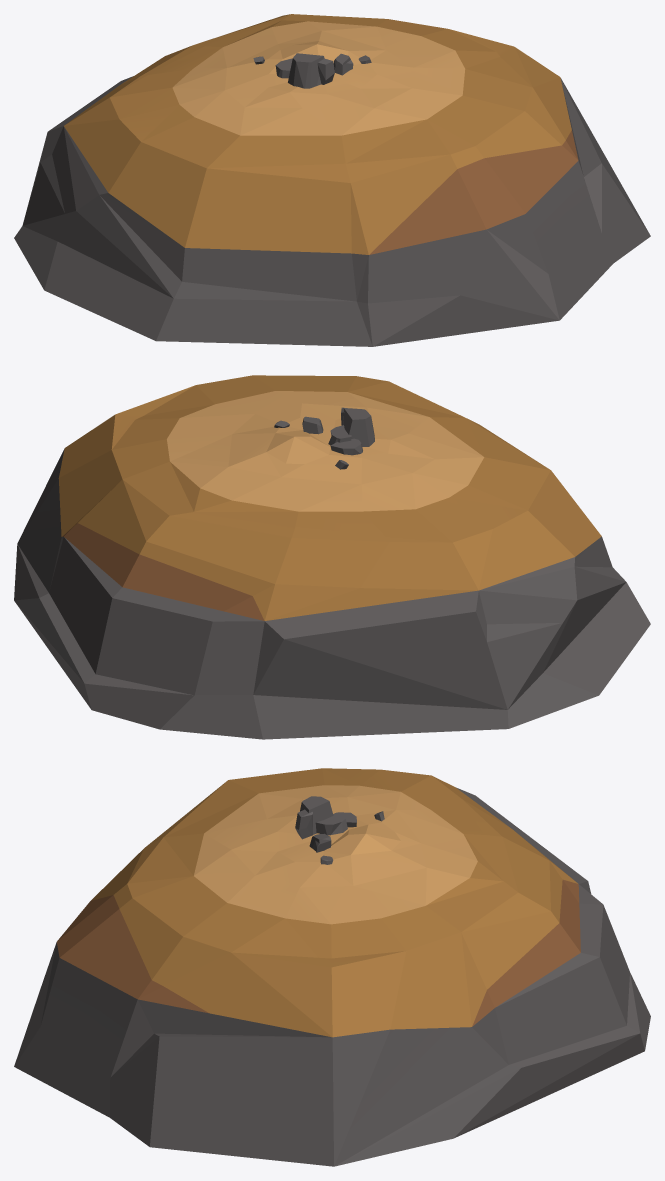
The model's file is terrains_island-sand-tiny.fbx.
3 views of the same model, one above another, from view 1: azimuth 30°, elevation 25°; view 2: azimuth 150°, elevation 25°; view 3: azimuth 270°, elevation 25° (orthographic). The views are drawn at different scales.
Visible parts, largest first — view 1: terrains_island_sand_tiny; view 2: terrains_island_sand_tiny; view 3: terrains_island_sand_tiny.
Boxes of the visible parts, box(x1,y1,x2,y2) form: terrains_island_sand_tiny: box(14, 14, 650, 346); terrains_island_sand_tiny: box(14, 375, 650, 739); terrains_island_sand_tiny: box(14, 768, 650, 1166).
Bounding box in the file's own units: 200 × 65.85 × 186.
